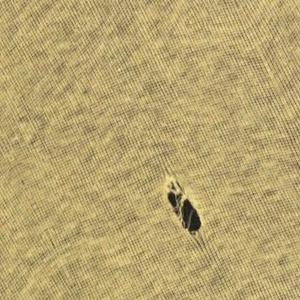hole: (165, 178, 206, 242)
